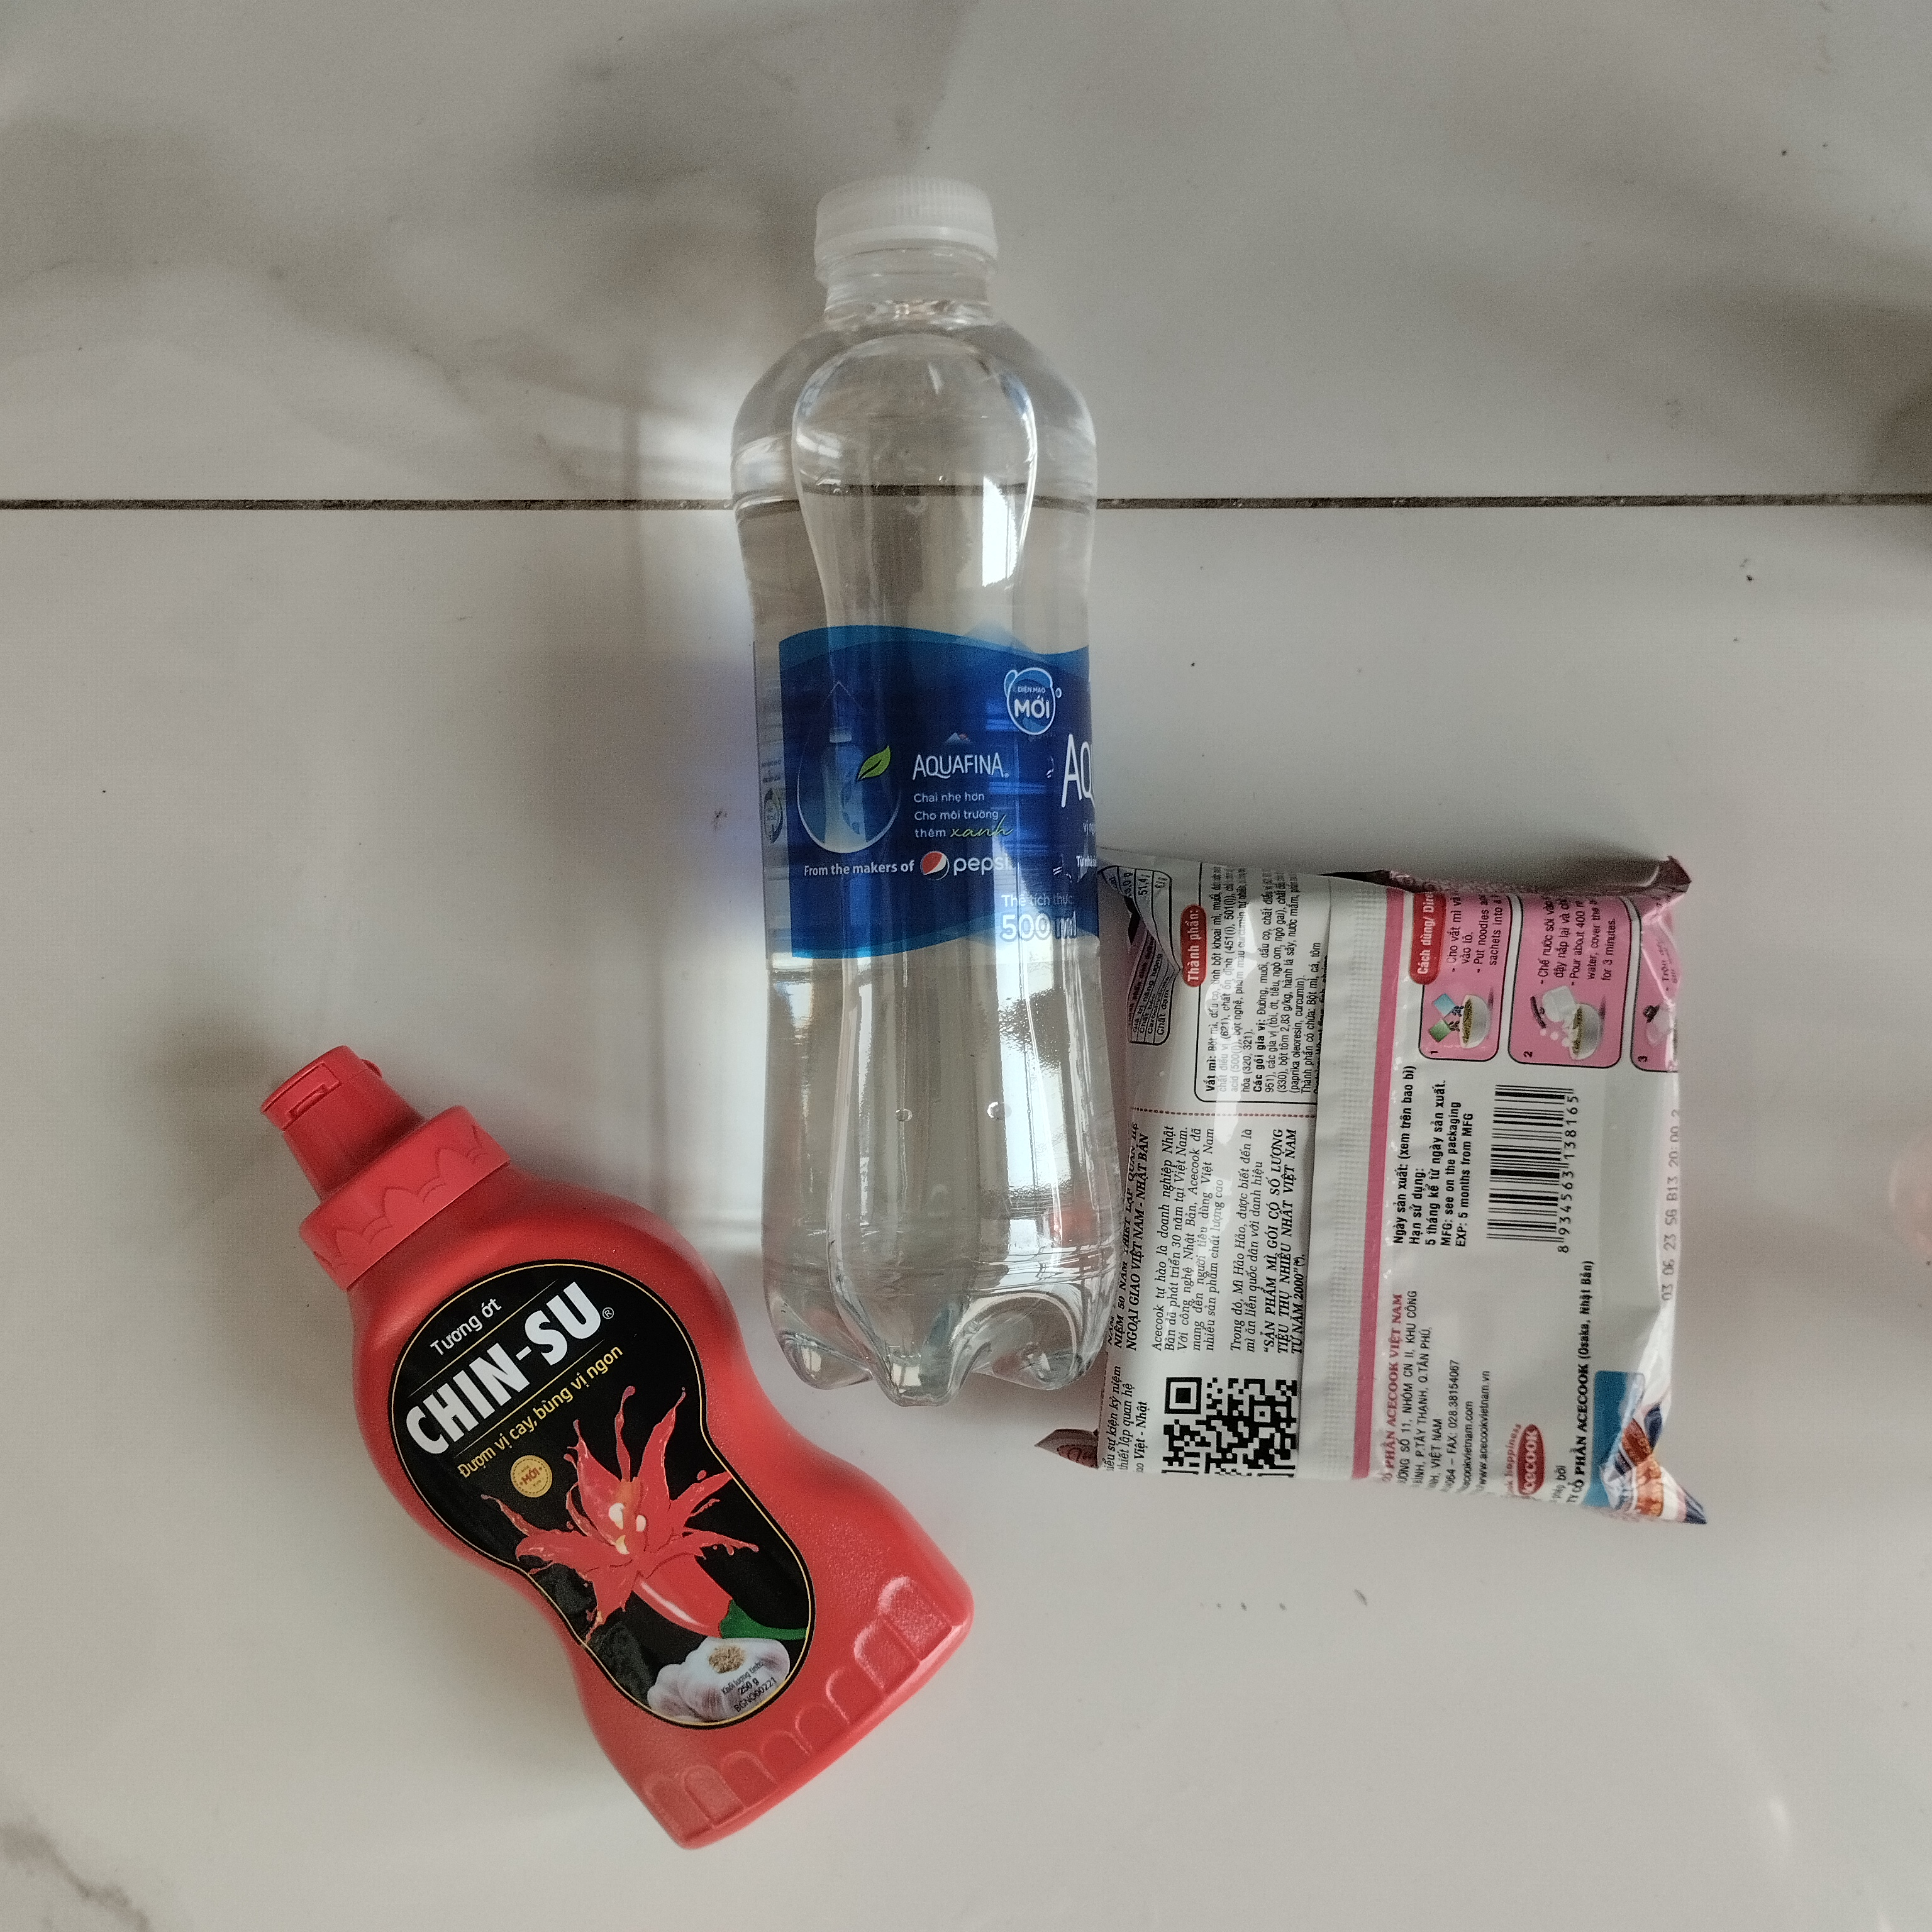Aquafina: (708, 172, 1148, 1421)
Chinsu: (249, 1040, 968, 1858)
Haohao: (1046, 832, 1753, 1545)
